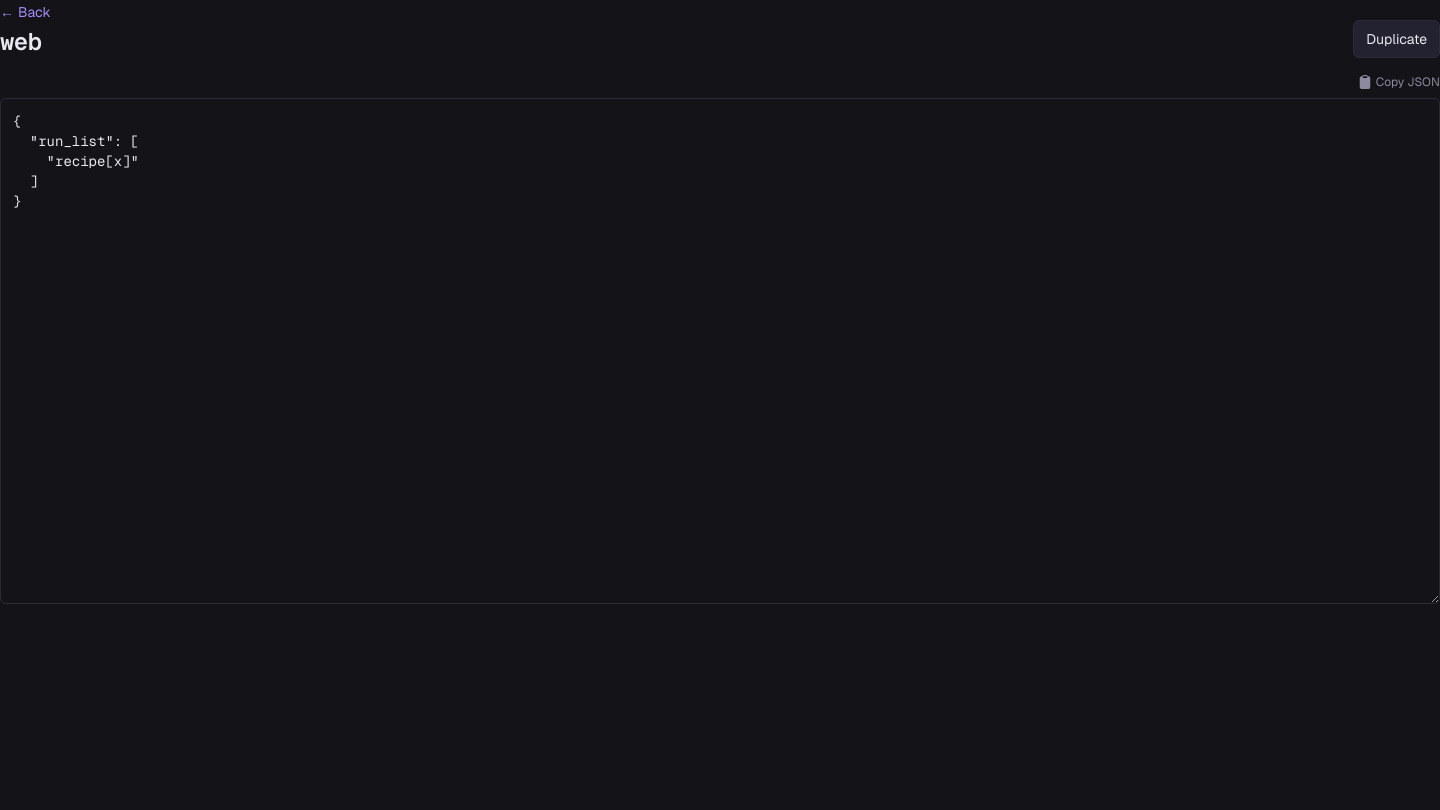
Test case: ObjectEditor › keeps the dialog open and shows an error when duplicate fails
Click the button "Duplicate": x=1397, y=39 [1353, 20, 1439, 58]
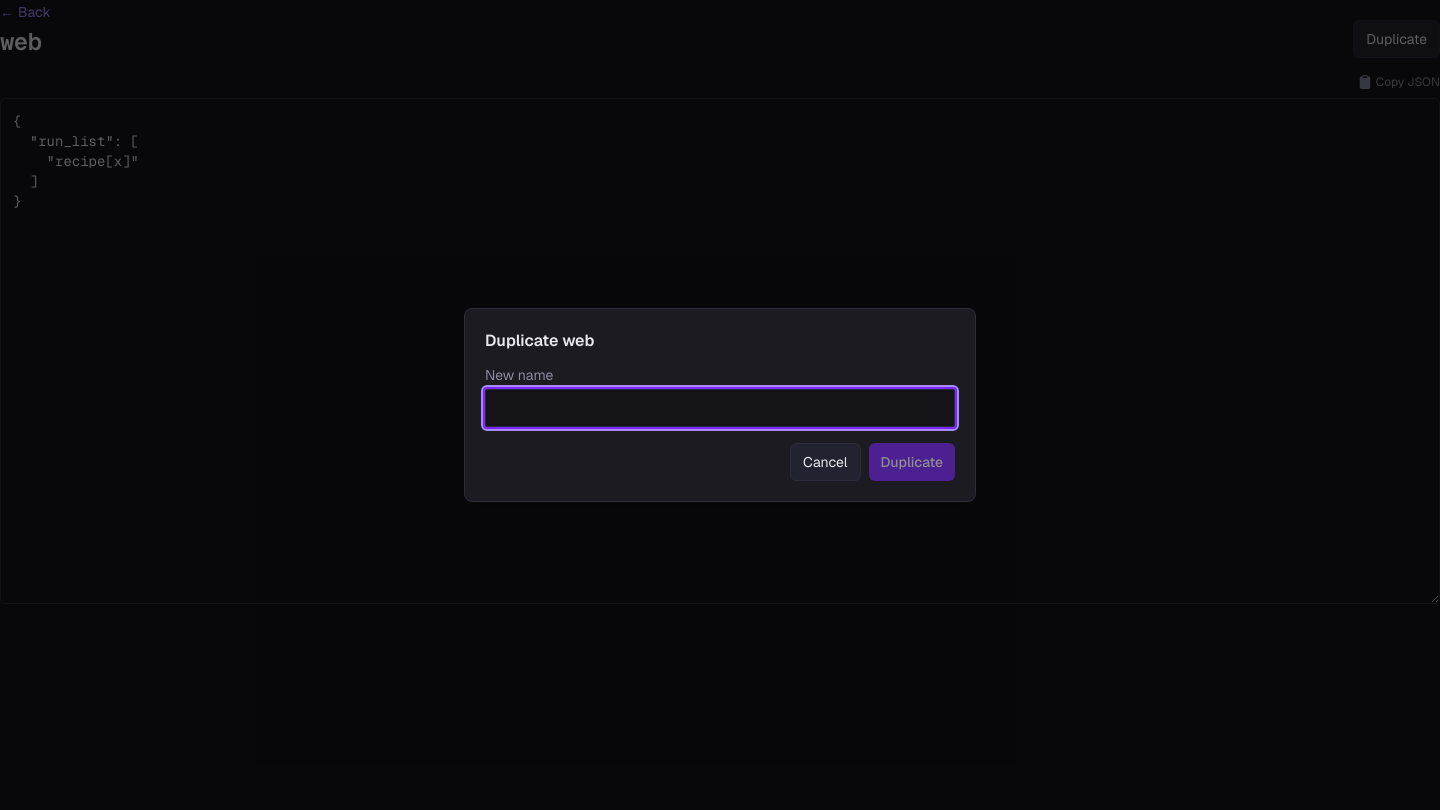
In the field labelled "New name": x=720, y=408 [485, 389, 955, 427], type "web-copy"
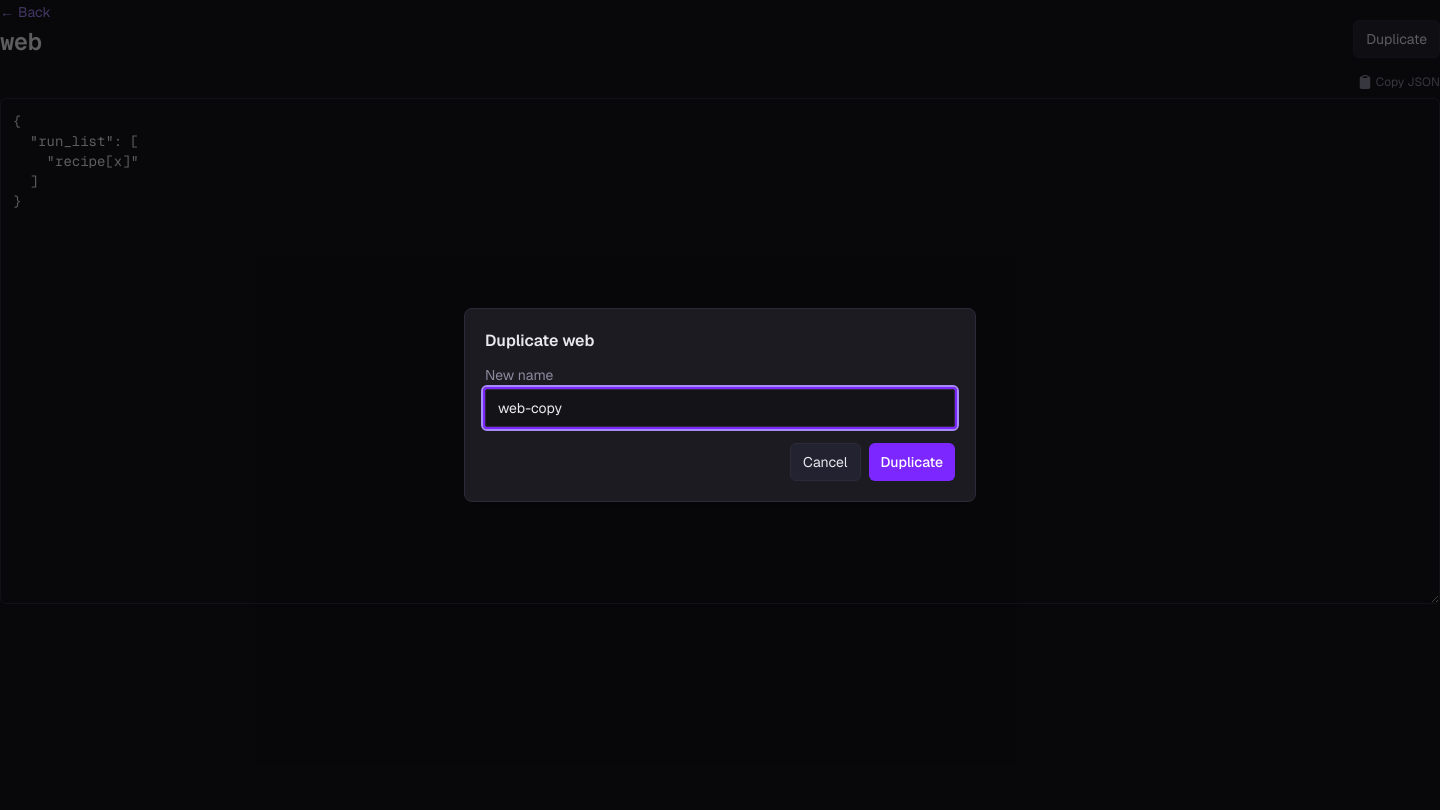
Click the button "Duplicate": x=912, y=462 [868, 443, 955, 481]
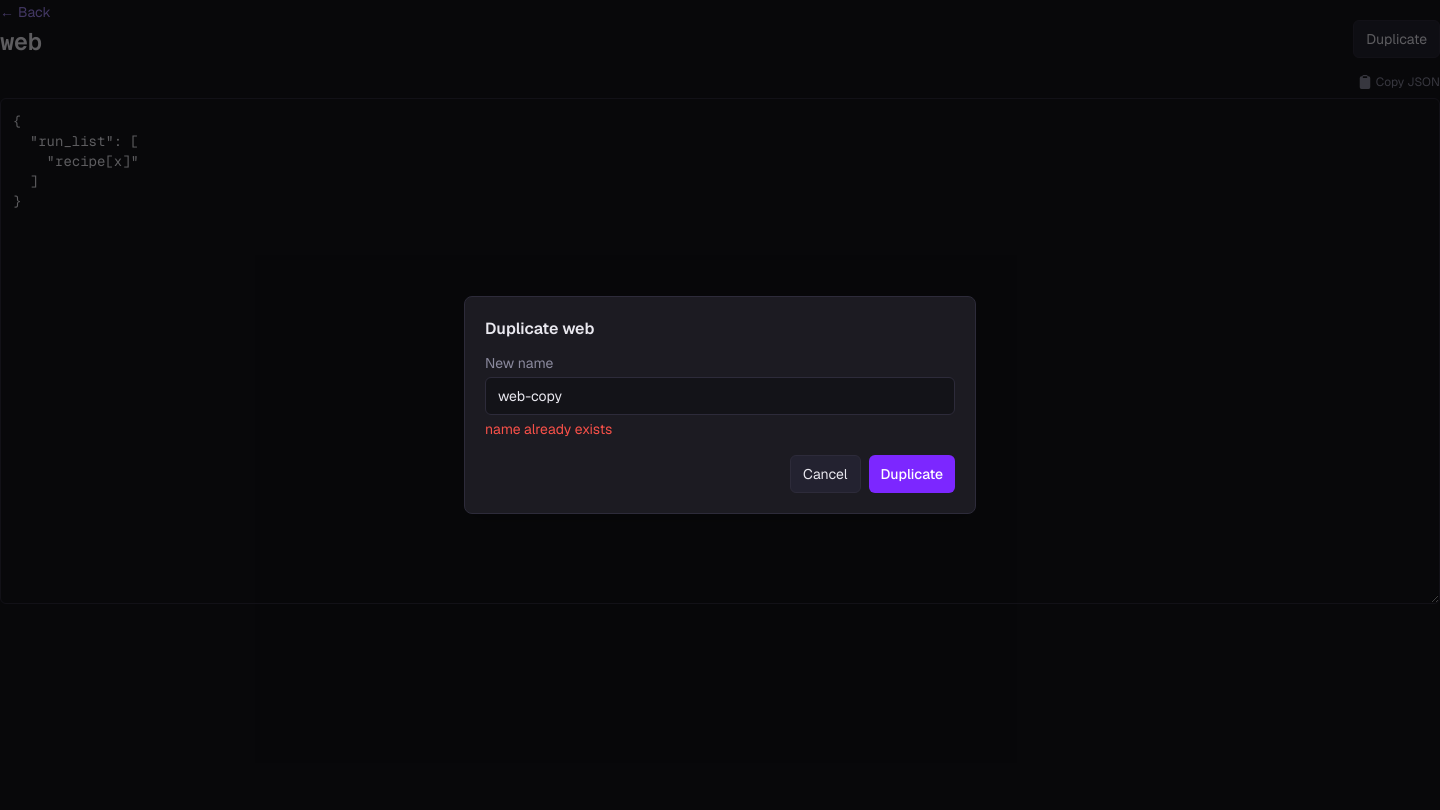
Now the dialog is shown, box [464, 296, 976, 514]
Now the message reads "name already exists", box [485, 420, 612, 438]
